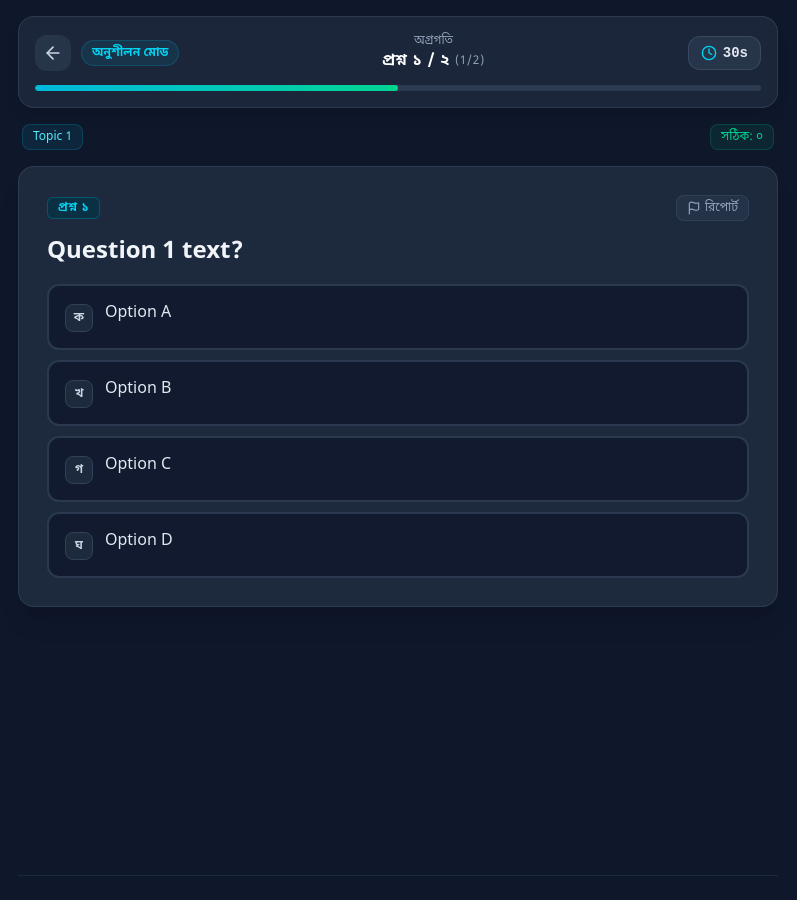
Test: Quiz Component › handles option selection correctly in quiz mode (correct answer)
This screenshot has width=797, height=900.
Step 1. Click the text "Option A" → (138, 313), box [105,302,171,324]
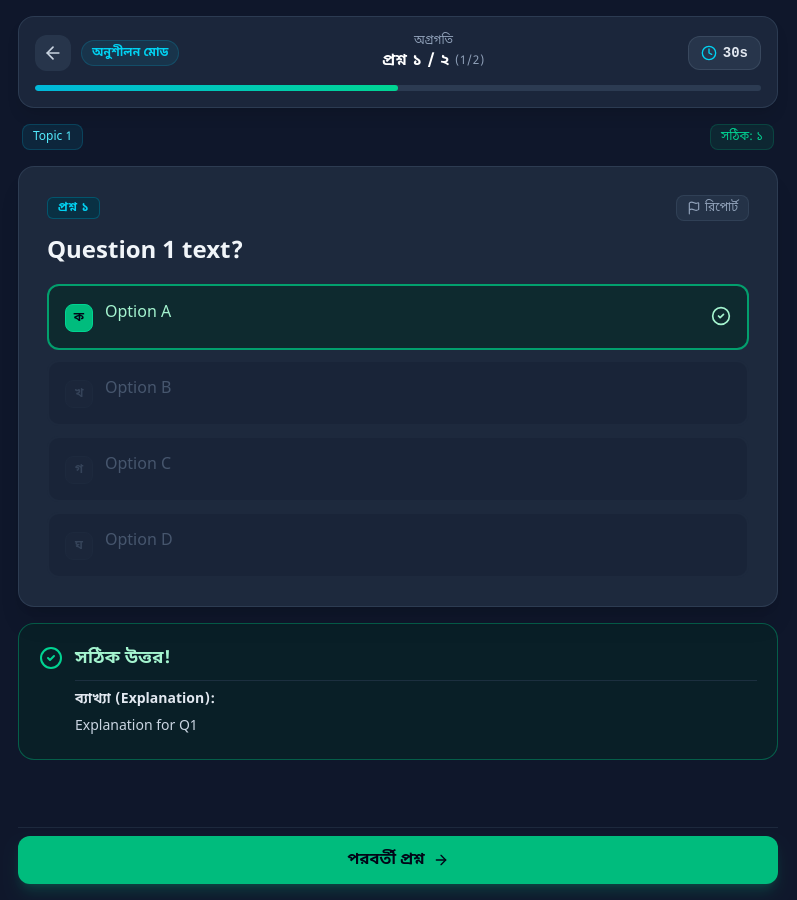
Check: the text "ব্যাখ্যা (Explanation):" is shown, box [75,690,215,709]
Check: the text "Explanation for Q1" is shown, box [75,717,198,736]
Check: the text "পরবর্তী প্রশ্ন" is shown, box [347,848,425,872]
